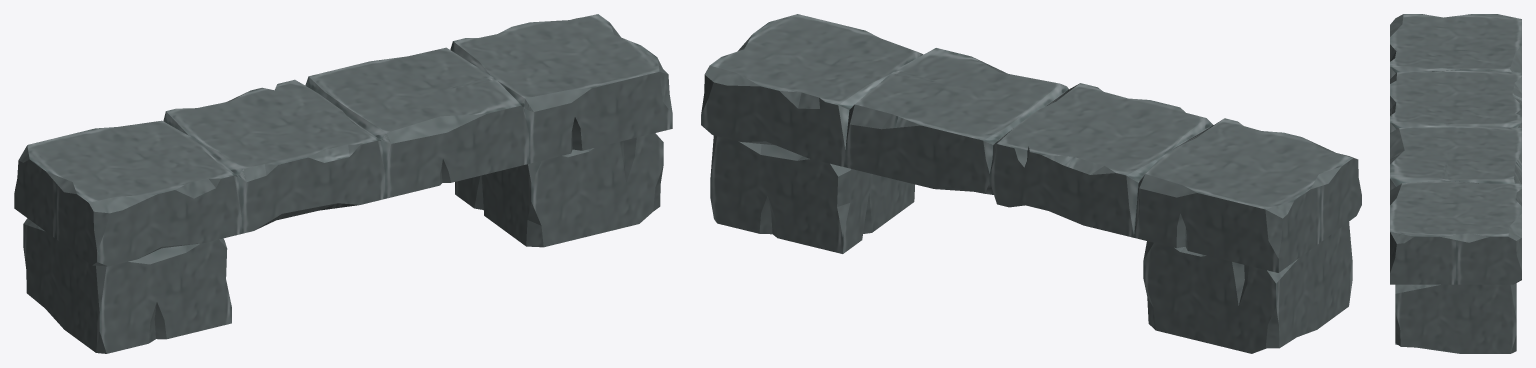
File: Stone Bridge W4_HD.fbx
3 renders of one model, left to right at view 1: azimuth 30°, elevation 25°; view 2: azimuth 150°, elevation 25°; view 3: azimuth 270°, elevation 25°, orthographic. The views are drawn at different scales.
Visible parts, largest first — view 1: StoneBridge_W4; view 2: StoneBridge_W4; view 3: StoneBridge_W4.
Boxes of the visible parts, box(x1,y1,x2,y2) form: StoneBridge_W4: box(14, 14, 672, 353); StoneBridge_W4: box(701, 14, 1361, 353); StoneBridge_W4: box(1390, 14, 1521, 353).
Size of the model in its own units: 4 by 1 by 1.
